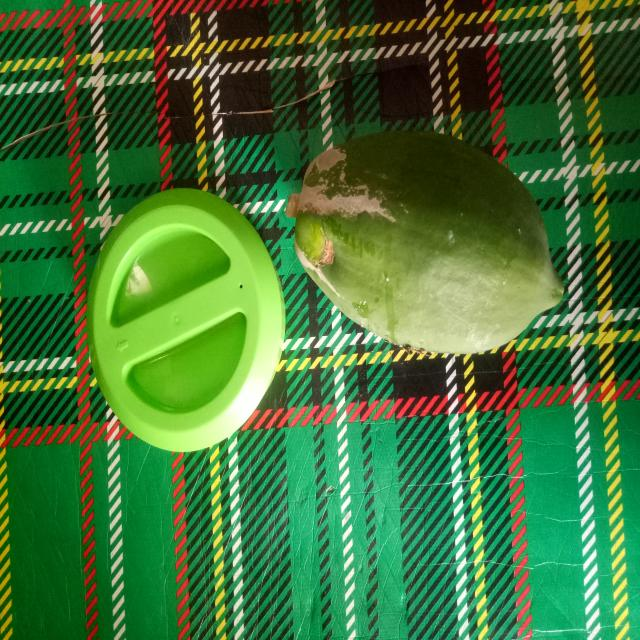Pepaya unrippen: (286, 137, 565, 373)
